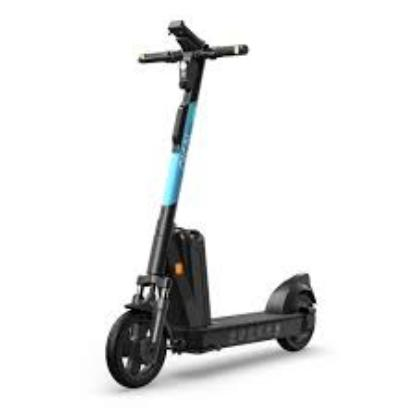bike: (104, 20, 317, 390)
